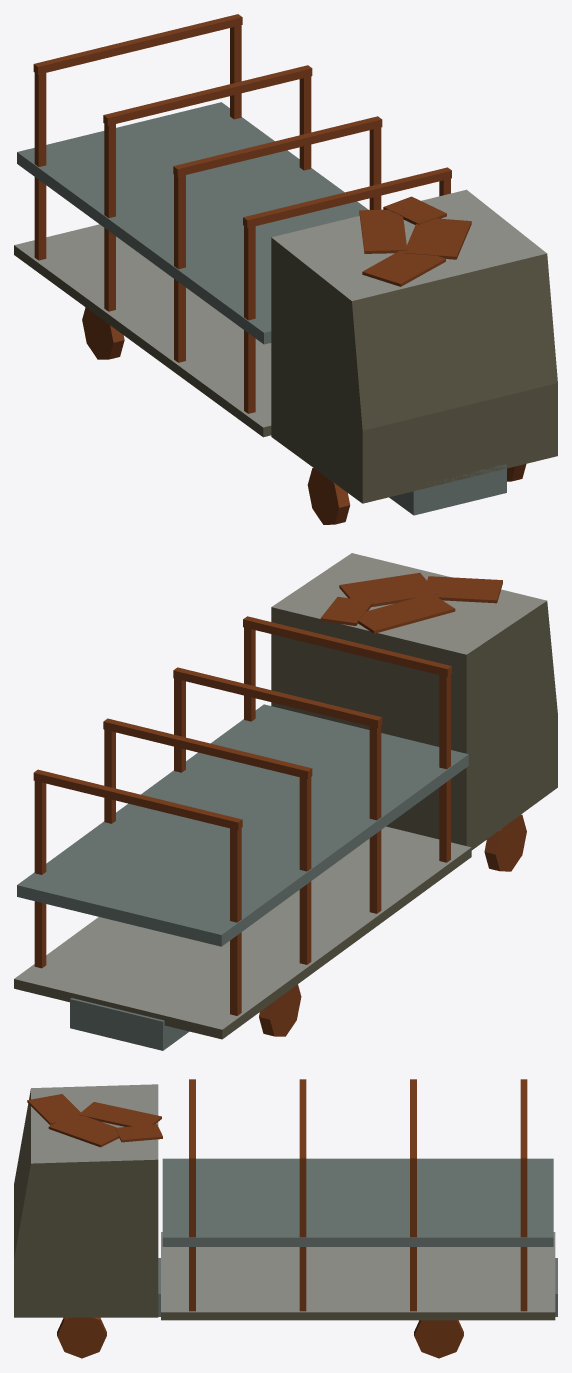
Rendered from SM_CocheCivil_Camion_v4_LOD0.fbx.
3 renders of one model, top to bottom at view 1: azimuth 30°, elevation 25°; view 2: azimuth 150°, elevation 25°; view 3: azimuth 270°, elevation 25°, orthographic. The views are drawn at different scales.
Visible parts, largest first — view 1: SM_coche_civil_v24_LOD0; view 2: SM_coche_civil_v24_LOD0; view 3: SM_coche_civil_v24_LOD0.
Boxes of the visible parts, x1,y1,x2,y2 form: SM_coche_civil_v24_LOD0: [14, 14, 557, 524]; SM_coche_civil_v24_LOD0: [14, 553, 557, 1050]; SM_coche_civil_v24_LOD0: [14, 1079, 557, 1358].
Bounding box in the file's own units: 2.24 × 2.64 × 6.4.
